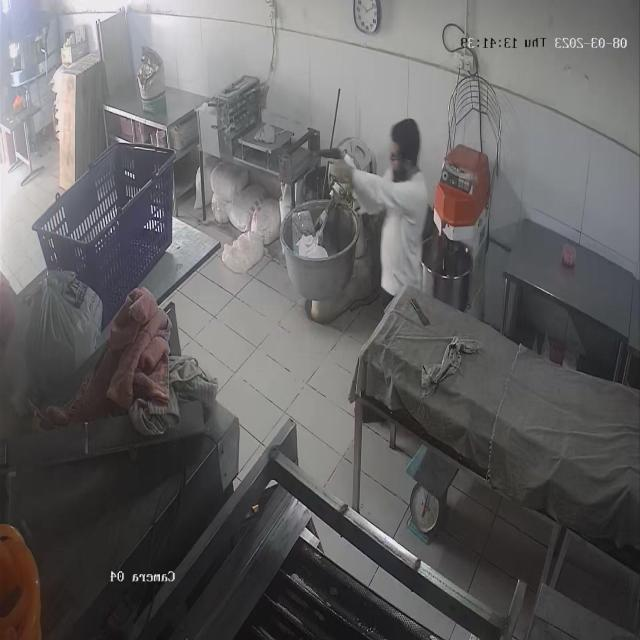Gun: (296, 130, 352, 172)
